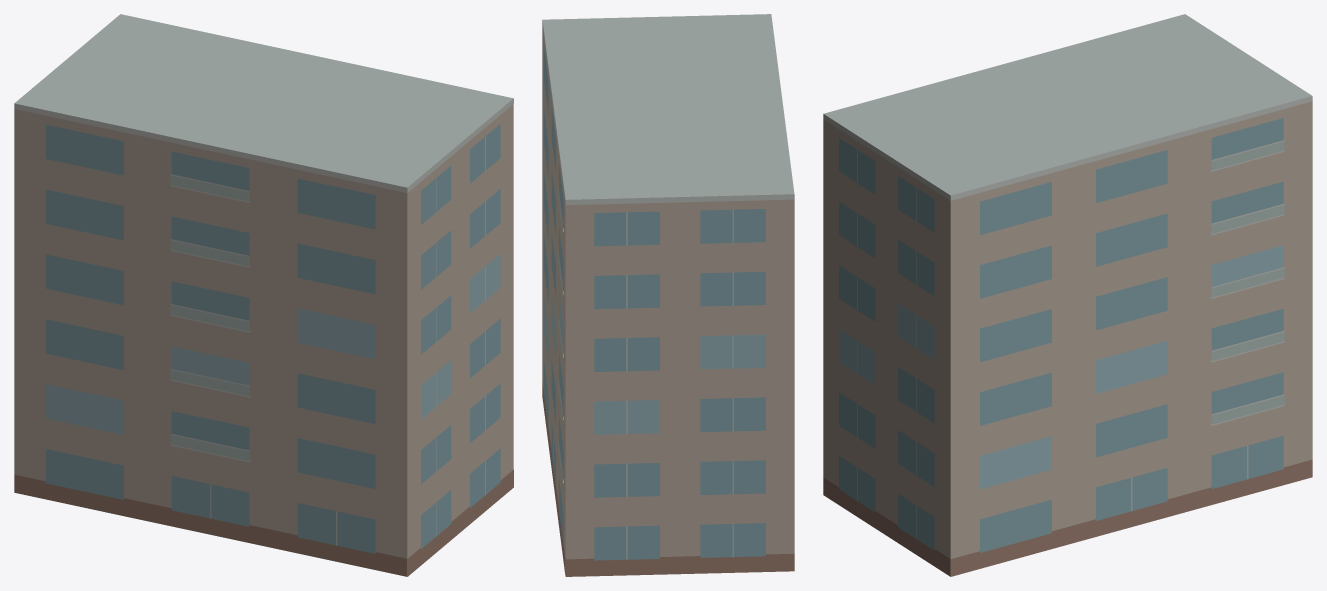
Rendered from survey-upis-32722916.glb.
The picture shows the model from 3 angles, left to right: view 1: azimuth 30°, elevation 25°; view 2: azimuth 150°, elevation 25°; view 3: azimuth 270°, elevation 25°; orthographic projection. The views are drawn at different scales.
Parts seen in each view (by area): view 1: survey-upis-32722916.tmp; view 2: survey-upis-32722916.tmp; view 3: survey-upis-32722916.tmp.
Boxes of the visible parts, left/top/right/bottom form: survey-upis-32722916.tmp: left=14, top=14, right=513, bottom=576; survey-upis-32722916.tmp: left=542, top=14, right=794, bottom=576; survey-upis-32722916.tmp: left=823, top=14, right=1312, bottom=576.
Size of the model in its own units: 17.68 by 17.3 by 20.13.
